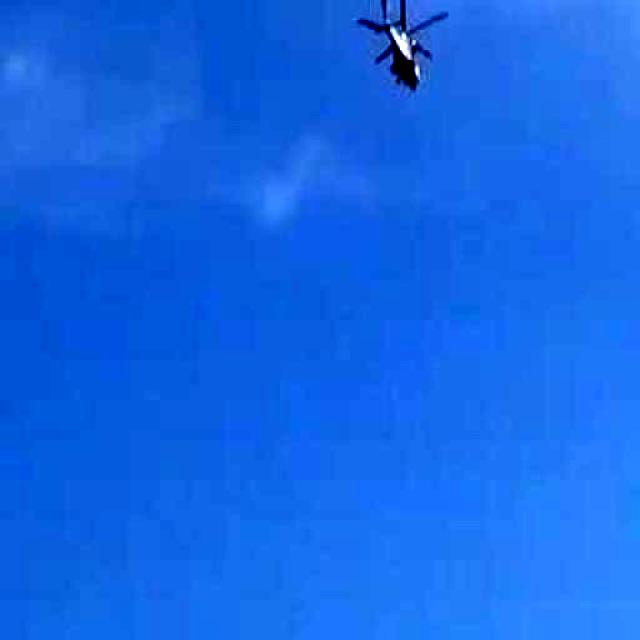drone: (325, 0, 481, 124)
